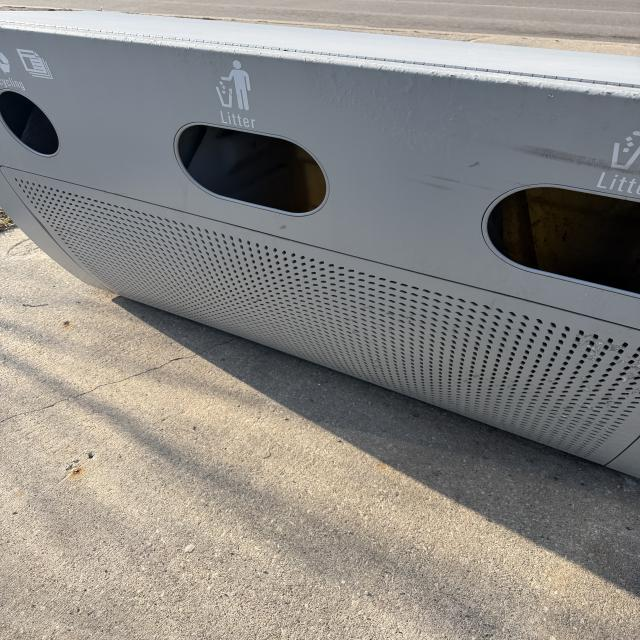Dustbin: (1, 5, 640, 488)
